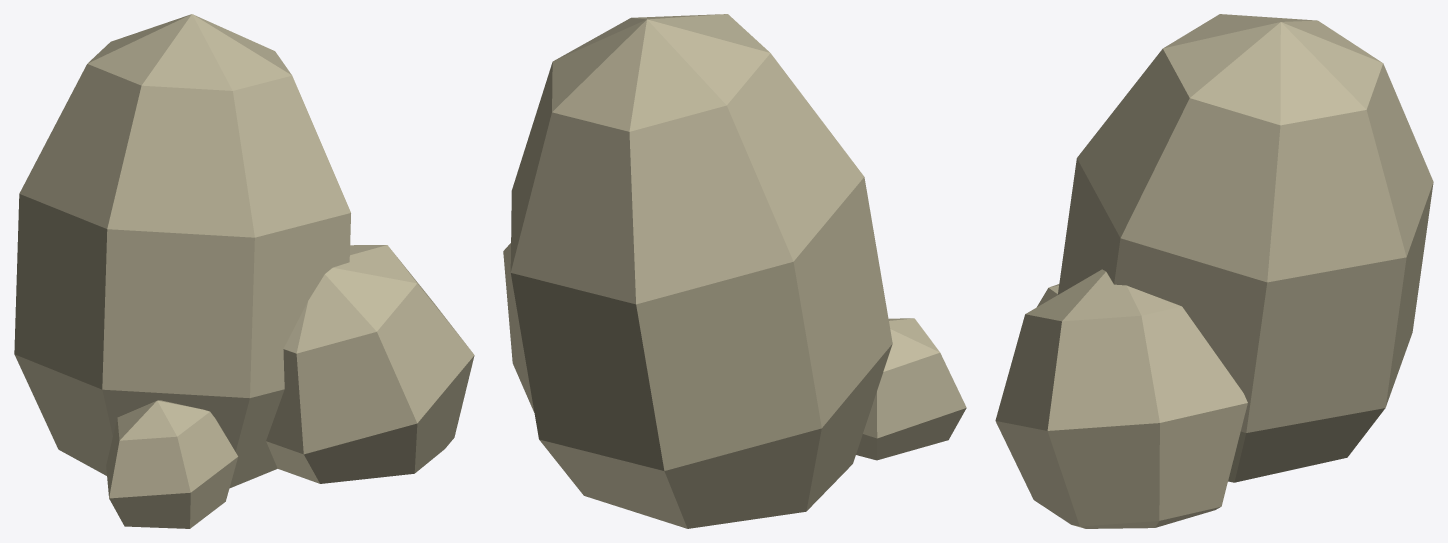
File: prop-limestone-outcrop.glb
3 renders of one model, left to right at view 1: azimuth 30°, elevation 25°; view 2: azimuth 150°, elevation 25°; view 3: azimuth 270°, elevation 25°, orthographic. The views are drawn at different scales.
Visible parts, largest first — view 1: limestone-outcrop; view 2: limestone-outcrop; view 3: limestone-outcrop.
Boxes of the visible parts, x1,y1,x2,y2 form: limestone-outcrop: (14, 14, 474, 528); limestone-outcrop: (503, 14, 966, 528); limestone-outcrop: (995, 14, 1433, 528).
Bounding box in the file's own units: 0.8584 × 0.9 × 0.8442.
